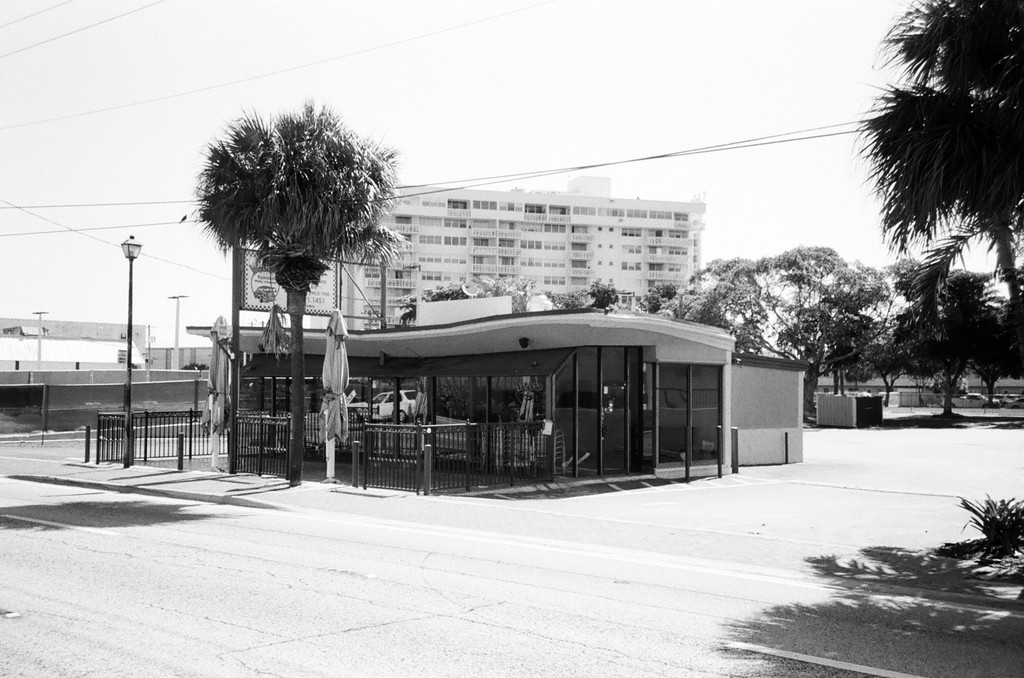Car: (939, 387, 999, 408), (1003, 396, 1023, 409)
